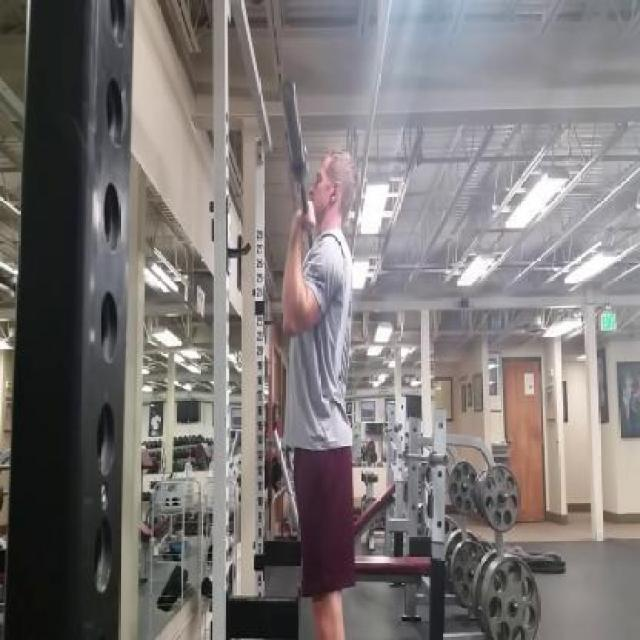barbell: (277, 75, 314, 187)
